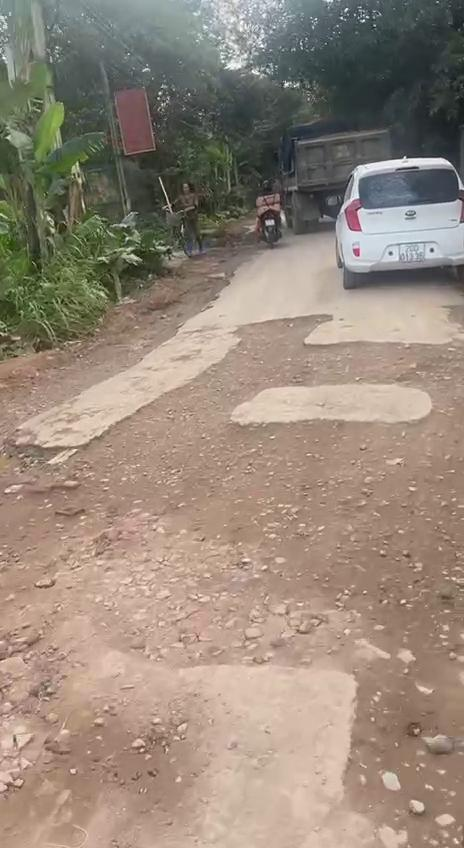pothole: (75, 298, 464, 668), (0, 434, 64, 515)
